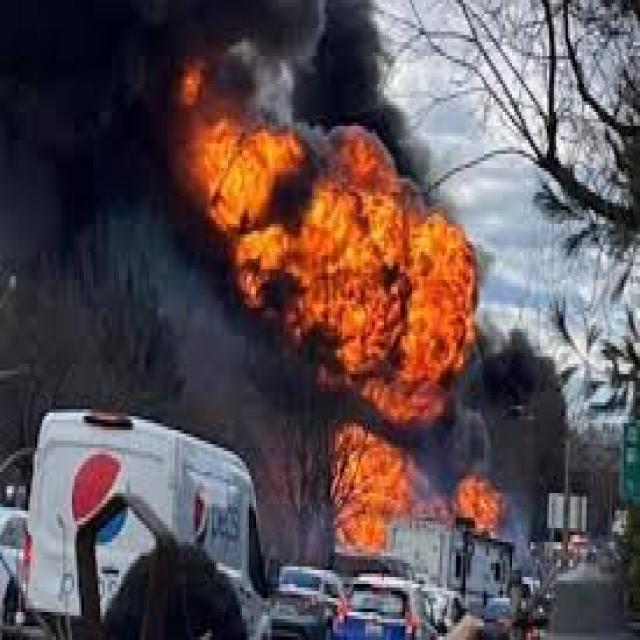fire: (175, 60, 484, 423), (326, 416, 414, 567), (444, 472, 508, 542)
